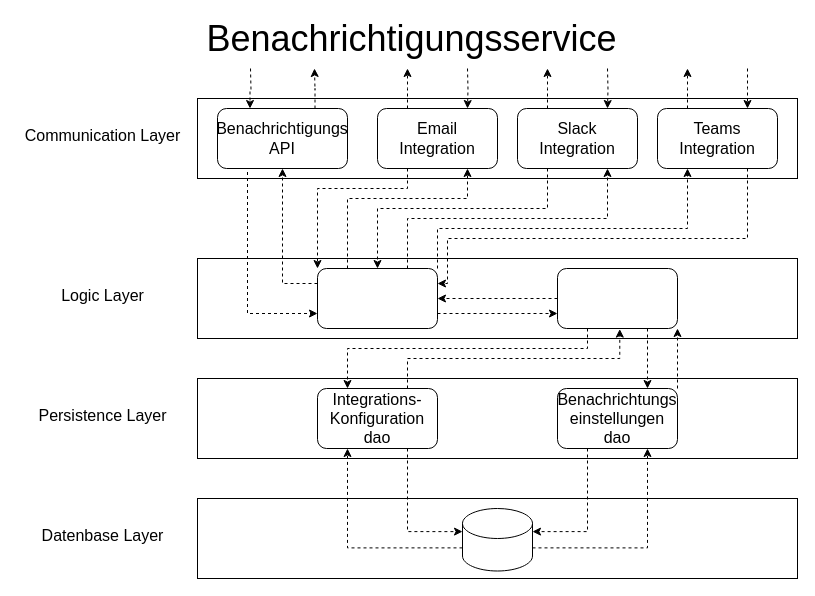
Image size: 815x596. Some labels were removed from this diagram. The box of each missing label's shape, as (x1, y1, x2, y2) in pixels:
Benachrichtigungs sender: (316, 268, 438, 328)
Database: (462, 508, 532, 571)
Einstellungs manager: (556, 268, 678, 328)
